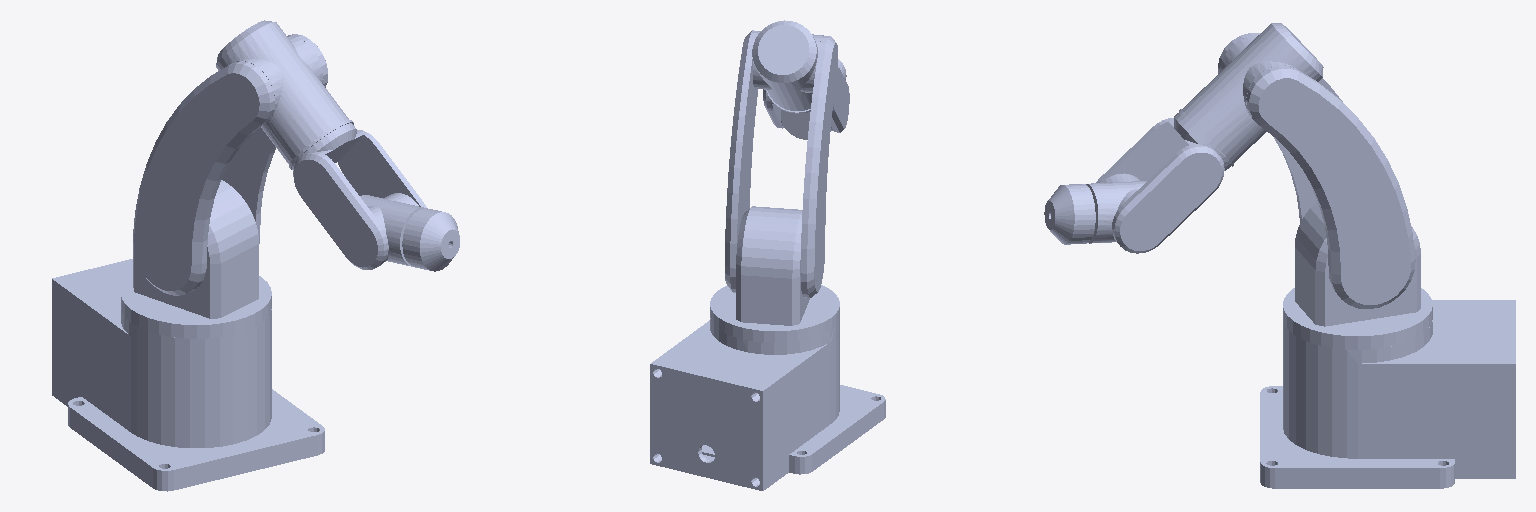
The robot description file, URDF, robot "urdf2":
<?xml version="1.0" encoding="utf-8"?>
<!-- This URDF was automatically created by SolidWorks to URDF Exporter! Originally created by [author] ([email redacted]) 
     Commit Version: 1.6.0-4-g7f85cfe  Build Version: 1.6.7995.38578
     For more information, please see http://wiki.ros.org/sw_urdf_exporter -->
<robot
  name="urdf2">
  <link name="world"/>
  <joint name="base_joint" type="fixed">
  <parent link="world"/>
  <child link="eslabon_0"/>
  <origin rpy="0 0 0" xyz="0.0 0.0 0.17"/>
  </joint>
  <link
    name="eslabon_0">
    <inertial>
      <origin
        xyz="1.0422E-11 0.017244 0.037691"
        rpy="0 0 0" />
      <mass
        value="0.89153" />
      <inertia
        ixx="0.0016943"
        ixy="7.8702E-15"
        ixz="-6.1537E-14"
        iyy="0.0017073"
        iyz="-0.00010181"
        izz="0.0019831" />
    </inertial>
    <visual>
      <origin
        xyz="0 0 0"
        rpy="0 0 0" />
      <geometry>
        <mesh
          filename="package://urdf2/meshes/eslabon_0.STL" />
      </geometry>
      <material
        name="">
        <color
          rgba="0.79216 0.81961 0.93333 1" />
      </material>
    </visual>
    <collision>
      <origin
        xyz="0 0 0"
        rpy="0 0 0" />
      <geometry>
        <mesh
          filename="package://urdf2/meshes/eslabon_0.STL" />
      </geometry>
    </collision>
  </link>
  <link
    name="Link_1">
    <inertial>
      <origin
        xyz="4.85722573273506E-16 4.9960036108132E-16 -0.0203423923814379"
        rpy="0 0 0" />
      <mass
        value="0.235997319223989" />
      <inertia
        ixx="0.000242917324320263"
        ixy="-2.03287907341032E-20"
        ixz="-4.98707991001971E-20"
        iyy="0.000301154082942842"
        iyz="-2.13013066383385E-20"
        izz="0.000218774157929577" />
    </inertial>
    <visual>
      <origin
        xyz="0 0 0"
        rpy="0 0 0" />
      <geometry>
        <mesh
          filename="package://urdf2/meshes/Link_1.STL" />
      </geometry>
      <material
        name="">
        <color
          rgba="0.792156862745098 0.819607843137255 0.933333333333333 1" />
      </material>
    </visual>
    <collision>
      <origin
        xyz="0 0 0"
        rpy="0 0 0" />
      <geometry>
        <mesh
          filename="package://urdf2/meshes/Link_1.STL" />
      </geometry>
    </collision>
  </link>
  <joint
    name="Joint_1"
    type="revolute">
    <origin
      xyz="0 0 0.145"
      rpy="0 0 -1.2171" />
    <parent
      link="eslabon_0" />
    <child
      link="Link_1" />
    <axis
      xyz="0 0 1" />
    <limit
      lower="0"
      upper="3.142"
      effort="300"
      velocity="3" />
  </joint>
  <link
    name="link_2">
    <inertial>
      <origin
        xyz="0.0233269033944592 2.4980018054066E-15 0.0586342311289204"
        rpy="0 0 0" />
      <mass
        value="0.35706117343289" />
      <inertia
        ixx="0.00142940937450205"
        ixy="-1.0842021724855E-19"
        ixz="-0.000540372449573386"
        iyy="0.00155564200618658"
        iyz="-1.89735380184963E-19"
        izz="0.000544753645972744" />
    </inertial>
    <visual>
      <origin
        xyz="0 0 0"
        rpy="0 0 0" />
      <geometry>
        <mesh
          filename="package://urdf2/meshes/link_2.STL" />
      </geometry>
      <material
        name="">
        <color
          rgba="0.792156862745098 0.819607843137255 0.933333333333333 1" />
      </material>
    </visual>
    <collision>
      <origin
        xyz="0 0 0"
        rpy="0 0 0" />
      <geometry>
        <mesh
          filename="package://urdf2/meshes/link_2.STL" />
      </geometry>
    </collision>
  </link>
  <joint
    name="Joint_2"
    type="continuous">
    <origin
      xyz="0 0 0"
      rpy="0 0 0" />
    <parent
      link="Link_1" />
    <child
      link="link_2" />
    <axis
      xyz="0 1 0" />
    <limit
      lower="-2"
      upper="0.3"
      effort="200"
      velocity="3" />
  </joint>
  <link
    name="link_3">
    <inertial>
      <origin
        xyz="-0.0135763809770153 -0.0555832299864361 -6.97451801867643E-09"
        rpy="0 0 0" />
      <mass
        value="0.197506281990069" />
      <inertia
        ixx="0.000202701886888169"
        ixy="-2.93205804778591E-05"
        ixz="2.71305654108263E-11"
        iyy="8.9821788904807E-05"
        iyz="1.57443366058806E-11"
        izz="0.000191906644680011" />
    </inertial>
    <visual>
      <origin
        xyz="0 0 0"
        rpy="0 0 0" />
      <geometry>
        <mesh
          filename="package://urdf2/meshes/link_3.STL" />
      </geometry>
      <material
        name="">
        <color
          rgba="0.792156862745098 0.819607843137255 0.933333333333333 1" />
      </material>
    </visual>
    <collision>
      <origin
        xyz="0 0 0"
        rpy="0 0 0" />
      <geometry>
        <mesh
          filename="package://urdf2/meshes/link_3.STL" />
      </geometry>
    </collision>
  </link>
  <joint
    name="Joint_3"
    type="revolute">
    <origin
      xyz="0.06605 0 0.13468"
      rpy="1.5708 -1.1148 0" />
    <parent
      link="link_2" />
    <child
      link="link_3" />
    <axis
      xyz="0 0 -1" />
    <limit
      lower="-1"
      upper="0.5"
      effort="200"
      velocity="3" />
  </joint>
  <link
    name="link_4">
    <inertial>
      <origin
        xyz="0.0252610623340964 -1.57198752792631E-07 1.05072867018219E-07"
        rpy="0 0 0" />
      <mass
        value="0.0567373643332565" />
      <inertia
        ixx="1.2172811083238E-05"
        ixy="-5.09895555882774E-11"
        ixz="1.15162084022227E-10"
        iyy="1.52409575169798E-05"
        iyz="-1.92566419846967E-10"
        izz="1.6776681364006E-05" />
    </inertial>
    <visual>
      <origin
        xyz="0 0 0"
        rpy="0 0 0" />
      <geometry>
        <mesh
          filename="package://urdf2/meshes/link_4.STL" />
      </geometry>
      <material
        name="">
        <color
          rgba="0.792156862745098 0.819607843137255 0.933333333333333 1" />
      </material>
    </visual>
    <collision>
      <origin
        xyz="0 0 0"
        rpy="0 0 0" />
      <geometry>
        <mesh
          filename="package://urdf2/meshes/link_4.STL" />
      </geometry>
    </collision>
  </link>
  <joint
    name="Joint_4"
    type="continuous">
    <origin
      xyz="-0.02966 -0.12143 0"
      rpy="0 0 -1.005" />
    <parent
      link="link_3" />
    <child
      link="link_4" />
    <axis
      xyz="0 0 -1" />
    <limit
      effort="200"
      velocity="3" />
  </joint>
  
  <transmission name="link_1_trans">
    <type>transmission_interface/SimpleTransmission</type>
    <joint name="Joint_1">
      <hardwareInterface>hardware_interface/PositionJointInterface</hardwareInterface>
    </joint>

    <actuator name="link_1_motor">
      <hardwareInterface>hardware_interface/PositionJointInterface</hardwareInterface>
      <mechanicalReduction>1</mechanicalReduction>
    </actuator>
  </transmission>  

  <transmission name="link_2_trans">
    <type>transmission_interface/SimpleTransmission</type>
    <joint name="Joint_2">
      <hardwareInterface>hardware_interface/PositionJointInterface</hardwareInterface>
    </joint>
    <actuator name="link_2_motor">
      <hardwareInterface>hardware_interface/PositionJointInterface</hardwareInterface>
      <mechanicalReduction>1</mechanicalReduction>
    </actuator>
  </transmission>

    <transmission name="link_3_trans">
    <type>transmission_interface/SimpleTransmission</type>
    <joint name="Joint_3">
      <hardwareInterface>hardware_interface/PositionJointInterface</hardwareInterface>
    </joint>
    <actuator name="link_3_motor">
      <hardwareInterface>hardware_interface/PositionJointInterface</hardwareInterface>
      <mechanicalReduction>1</mechanicalReduction>
    </actuator>
  </transmission>

  <transmission name="link_4_trans">
    <type>transmission_interface/SimpleTransmission</type>
    <joint name="Joint_4">
      <hardwareInterface>hardware_interface/PositionJointInterface</hardwareInterface>
    </joint>
    <actuator name="link_4_motor">
      <hardwareInterface>hardware_interface/PositionJointInterface</hardwareInterface>
      <mechanicalReduction>1</mechanicalReduction>
    </actuator>
  </transmission>

  <gazebo>
    <plugin 
      name="control"
      filename="libgazebo_ros_control.so">
      <robotNamespace>/</robotNamespace>
    </plugin>
  </gazebo>

  <gazebo reference="link_1">
    <selfCollide>true</selfCollide>
  </gazebo>

  <gazebo reference="link_2">
    <selfCollide>true</selfCollide>
  </gazebo>
  
  <gazebo reference="link_3">
    <selfCollide>true</selfCollide>
  </gazebo>
  
  <gazebo reference="link_4">
    <selfCollide>true</selfCollide>
  </gazebo>
</robot>

--- Render facts (derived) ---
The picture shows the robot from 3 angles, left to right: view 1: azimuth 30°, elevation 25°; view 2: azimuth 150°, elevation 25°; view 3: azimuth 270°, elevation 25°; orthographic projection.
Model urdf2 with 6 links and 5 joints (2 revolute, 2 continuous, 1 fixed), rooted at world, posed all joints at 0.
Visible links, largest first — view 1: eslabon_0, link_2, link_3, Link_1, link_4; view 2: eslabon_0, Link_1, link_2, link_3, link_4; view 3: eslabon_0, link_2, link_3, Link_1, link_4.
Link boxes in pixels (left/top/right/bottom): eslabon_0: left=52, top=259, right=324, bottom=491; link_2: left=133, top=34, right=327, bottom=295; link_3: left=216, top=20, right=426, bottom=269; Link_1: left=121, top=180, right=271, bottom=338; link_4: left=360, top=193, right=459, bottom=271; eslabon_0: left=650, top=318, right=885, bottom=490; Link_1: left=710, top=206, right=839, bottom=342; link_2: left=725, top=30, right=837, bottom=297; link_3: left=752, top=20, right=849, bottom=132; link_4: left=781, top=59, right=846, bottom=139; eslabon_0: left=1260, top=300, right=1515, bottom=488; link_2: left=1218, top=33, right=1415, bottom=308; link_3: left=1096, top=23, right=1323, bottom=253; Link_1: left=1283, top=201, right=1432, bottom=349; link_4: left=1044, top=173, right=1146, bottom=244.
Size in the robot's own frame: 0.156 by 0.3137 by 0.318 metres.
Meshes: 5 distinct files referenced, 5 mesh visuals loaded (5 binary STL).